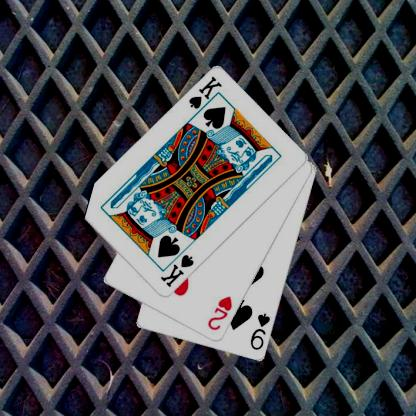2H: (205, 294, 233, 332)
9S: (248, 311, 271, 351)
KS: (186, 74, 223, 118), (158, 252, 195, 289)
